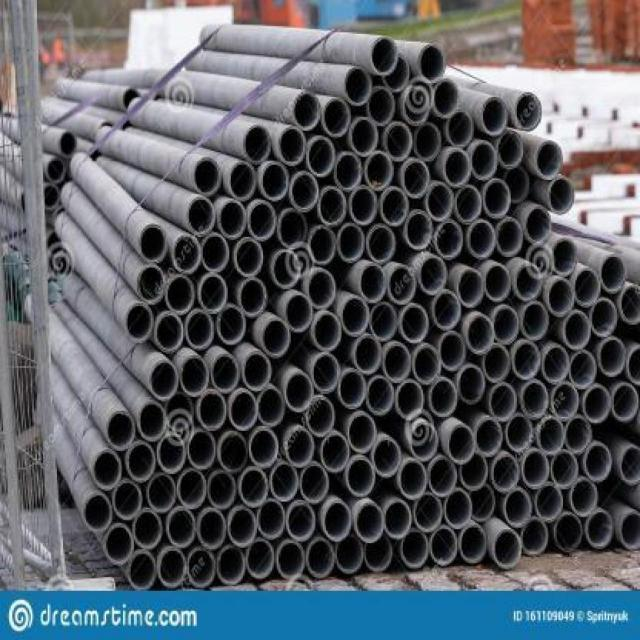pipe: (92, 449, 123, 491), (104, 522, 134, 565), (216, 545, 247, 586), (138, 224, 169, 265), (179, 356, 210, 397), (126, 441, 157, 482), (196, 508, 227, 549), (157, 546, 187, 588), (277, 125, 307, 167), (124, 302, 154, 344), (137, 400, 167, 442), (106, 410, 136, 452), (345, 455, 375, 497), (112, 479, 142, 521), (444, 488, 474, 530), (256, 498, 286, 540), (133, 508, 163, 550), (277, 209, 308, 249), (245, 539, 275, 580), (127, 550, 157, 591), (364, 150, 394, 191), (367, 224, 397, 265), (271, 249, 301, 290), (307, 269, 337, 310), (154, 313, 184, 354), (409, 421, 439, 462), (249, 428, 279, 469), (270, 461, 300, 502), (286, 501, 316, 542), (429, 525, 459, 566), (187, 196, 216, 238), (218, 198, 247, 240), (137, 264, 166, 306), (307, 396, 336, 438), (187, 428, 216, 470), (219, 431, 248, 473), (157, 432, 186, 474), (429, 455, 458, 497), (84, 492, 113, 534), (323, 500, 352, 542), (216, 305, 247, 344), (417, 44, 447, 84), (242, 124, 272, 164), (261, 162, 291, 202), (289, 172, 319, 212), (404, 210, 434, 250), (185, 310, 215, 350), (261, 317, 291, 357), (395, 380, 425, 420), (284, 427, 314, 467), (299, 463, 329, 503), (239, 467, 269, 507), (187, 548, 216, 589), (173, 234, 202, 275), (235, 237, 264, 278), (199, 274, 228, 315), (413, 344, 442, 385), (197, 390, 226, 431), (177, 468, 206, 509), (147, 472, 176, 513), (371, 35, 399, 77), (306, 537, 334, 579), (385, 121, 413, 163), (318, 186, 346, 228), (366, 375, 394, 417), (348, 411, 376, 453), (355, 501, 383, 543), (276, 540, 306, 579), (165, 276, 195, 315), (284, 373, 314, 412), (193, 157, 222, 197), (228, 161, 257, 201), (248, 201, 277, 241), (313, 312, 342, 352), (229, 391, 258, 431), (320, 433, 349, 473), (228, 507, 257, 547), (344, 66, 372, 107), (432, 79, 460, 120), (402, 85, 430, 126), (368, 86, 396, 127), (293, 90, 321, 131), (514, 92, 542, 133), (481, 96, 509, 137), (323, 98, 351, 139), (350, 117, 378, 158), (307, 136, 335, 177), (470, 140, 498, 181), (334, 151, 362, 192), (402, 158, 430, 199), (468, 219, 496, 260), (435, 219, 463, 260), (358, 263, 386, 304), (456, 268, 484, 309), (341, 296, 369, 337), (563, 310, 591, 351), (466, 314, 494, 355), (338, 368, 366, 409), (165, 391, 193, 432), (537, 416, 565, 457), (584, 442, 612, 483), (468, 483, 496, 524), (504, 487, 532, 528), (521, 517, 549, 558), (459, 523, 487, 564), (401, 528, 429, 569), (335, 533, 363, 574), (242, 352, 272, 390), (149, 362, 179, 400), (443, 148, 472, 187), (201, 234, 230, 273), (239, 279, 268, 318), (493, 530, 522, 569), (382, 53, 410, 93), (483, 179, 511, 219), (426, 182, 454, 222), (525, 206, 553, 246), (418, 256, 446, 296), (432, 290, 460, 330), (285, 293, 313, 333), (482, 343, 510, 383), (312, 353, 340, 393), (430, 377, 458, 417), (522, 380, 550, 420), (611, 383, 639, 423), (489, 383, 517, 423), (505, 413, 533, 453), (475, 417, 503, 457), (373, 438, 401, 478), (522, 450, 550, 490), (551, 450, 579, 490), (460, 451, 488, 491), (492, 453, 520, 493), (398, 460, 426, 500), (570, 477, 598, 517), (535, 482, 563, 522), (414, 492, 442, 532), (211, 354, 240, 392), (208, 471, 237, 509), (446, 109, 474, 148), (414, 123, 442, 162), (496, 130, 524, 169), (535, 141, 563, 180), (547, 176, 575, 215), (455, 185, 483, 224), (350, 186, 378, 225), (381, 188, 409, 227), (496, 218, 524, 257), (337, 224, 365, 263), (308, 226, 336, 265), (551, 238, 579, 277), (599, 255, 627, 294), (515, 263, 543, 302), (388, 265, 416, 304), (572, 268, 600, 307), (547, 279, 575, 318), (590, 298, 618, 337), (521, 301, 549, 340), (512, 341, 540, 380), (569, 351, 597, 390), (384, 500, 412, 539), (585, 510, 613, 549), (554, 513, 582, 552), (493, 306, 520, 346), (370, 303, 398, 341), (401, 305, 429, 343), (438, 332, 466, 370), (354, 335, 382, 373), (598, 338, 626, 376), (383, 343, 411, 381), (542, 346, 570, 384), (457, 365, 485, 403), (552, 383, 580, 421), (583, 385, 611, 423), (257, 388, 285, 426), (484, 265, 512, 302), (564, 416, 592, 453), (365, 535, 393, 572), (503, 166, 530, 203), (447, 424, 472, 462), (618, 446, 640, 486), (619, 283, 639, 326), (618, 511, 640, 550), (57, 128, 79, 156), (46, 156, 66, 185), (626, 347, 640, 385), (42, 183, 60, 209), (124, 87, 141, 107)
